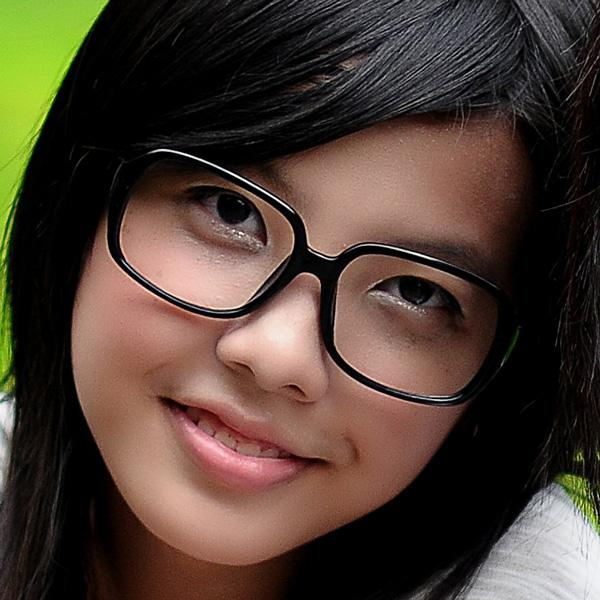Eyes: (359, 254, 473, 339), (171, 170, 276, 252)
